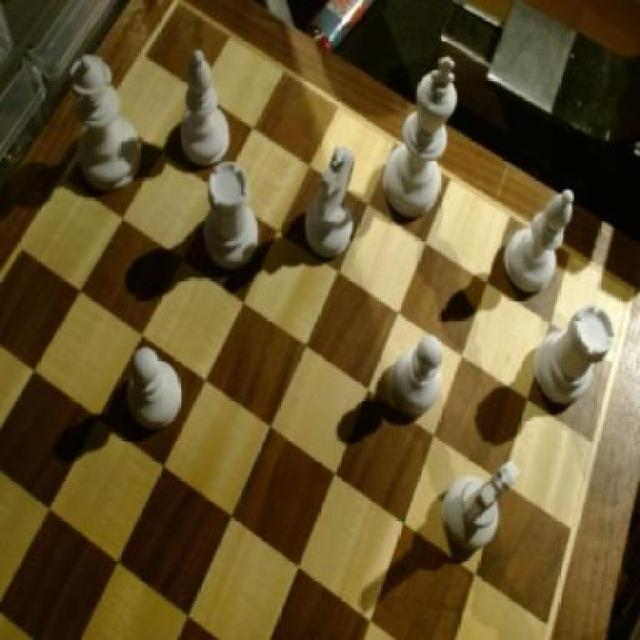black-rook: (503, 182, 576, 303), (180, 46, 235, 172)
white-bishop: (382, 57, 458, 225)
white-king: (437, 452, 521, 560), (306, 142, 362, 264)
white-knight: (125, 339, 182, 433), (390, 336, 446, 416)
white-pawn: (66, 48, 145, 190)
white-queen: (537, 298, 617, 418), (205, 161, 267, 277)
